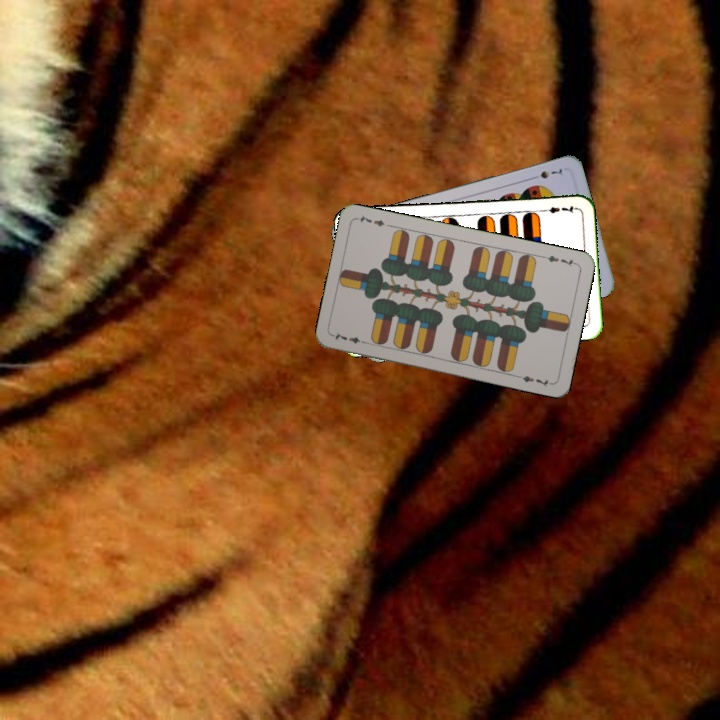E7: (539, 251, 579, 269), (330, 329, 370, 346), (537, 201, 578, 216)
S7: (527, 164, 565, 182)
